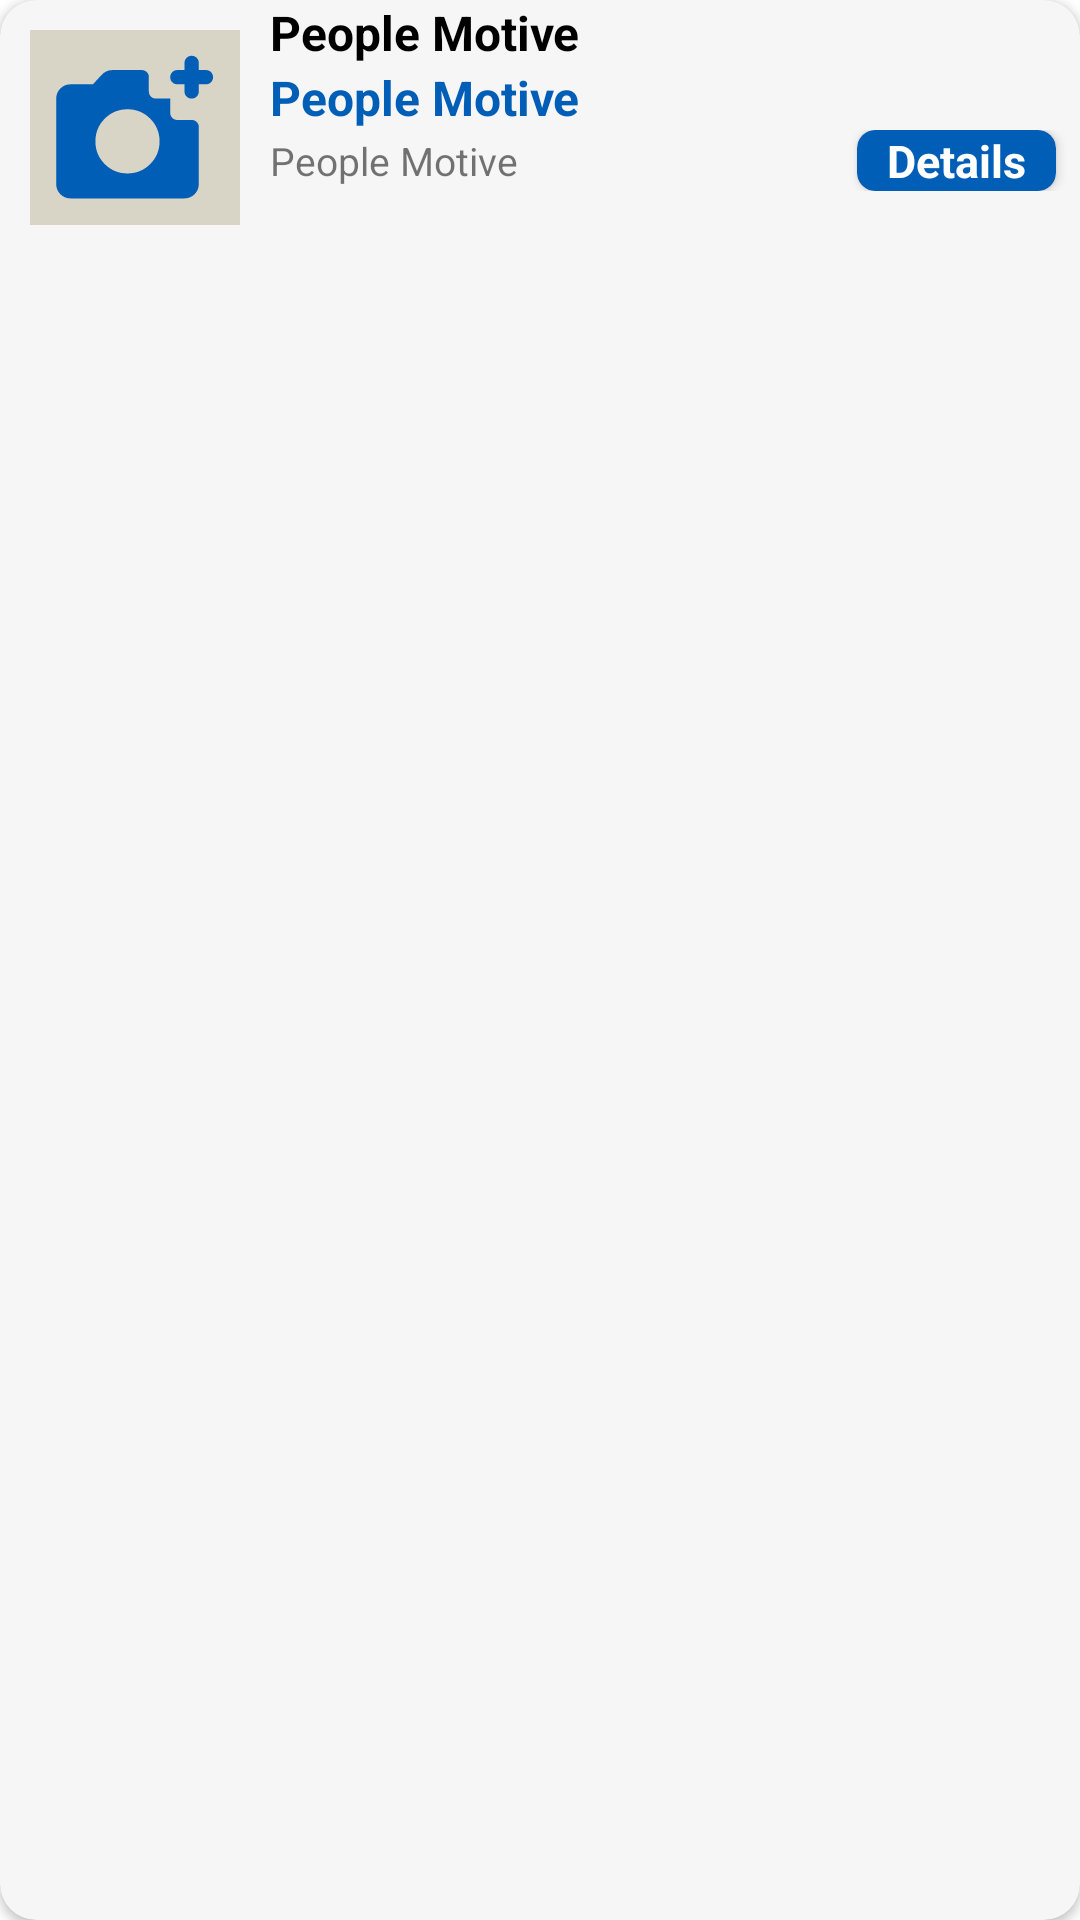

Where icons sit on this 1080w x 1920h app screen, as (x1, y1, x2, y2):
camera: (30, 30, 240, 225)
